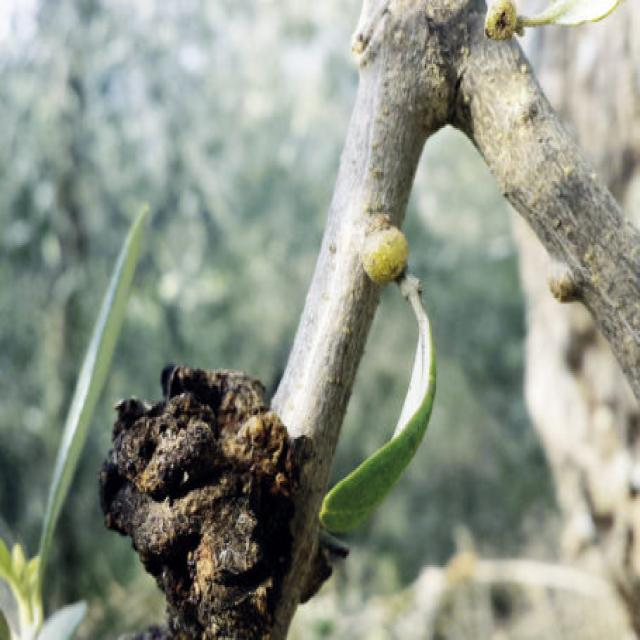Tuberculosis: (98, 366, 304, 638)
